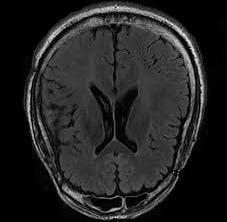Normal_Brain: (5, 1, 227, 222)
